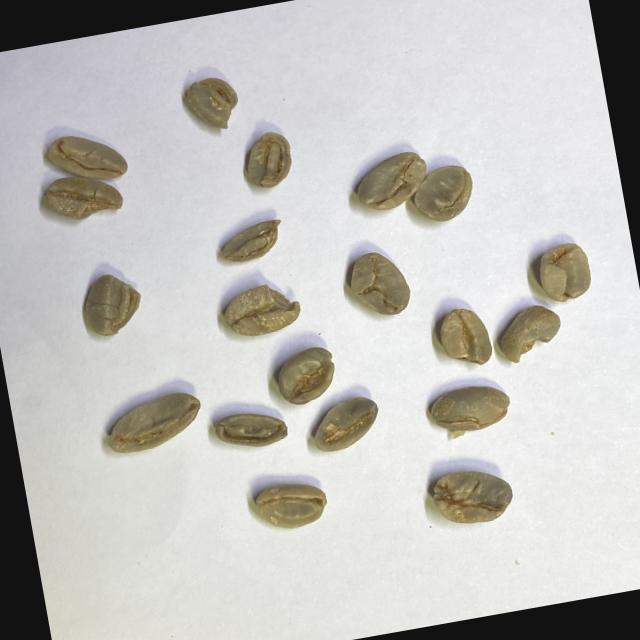bad: (97, 386, 210, 460), (426, 462, 518, 532), (346, 145, 434, 217), (215, 276, 308, 344), (41, 123, 132, 192), (341, 244, 416, 324), (36, 165, 128, 228), (74, 266, 150, 342), (425, 378, 515, 440), (304, 391, 387, 458), (408, 158, 482, 228), (492, 299, 568, 367), (249, 474, 332, 536), (268, 342, 343, 410), (212, 212, 292, 270), (178, 70, 246, 138), (433, 301, 496, 373), (532, 238, 596, 308), (236, 126, 302, 193), (210, 404, 292, 456)
